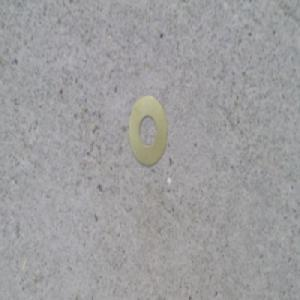Washer: (127, 99, 168, 169)
